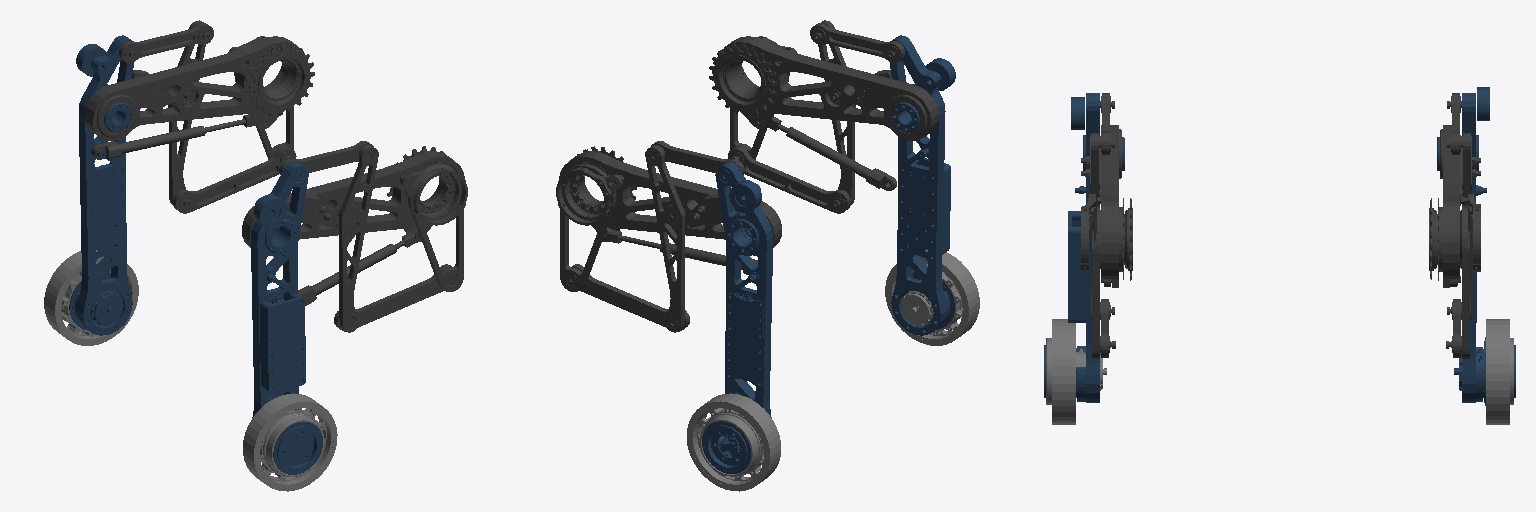
URDF robot description (Ranger-18 urdf):
<?xml version="1.0" encoding="utf-8"?>
<!-- This URDF was automatically created by SolidWorks to URDF Exporter! Originally created by Stephen Brawner (brawner@gmail.com) 
     Commit Version: 1.6.0-4-g7f85cfe  Build Version: 1.6.7995.38578
     For more information, please see http://wiki.ros.org/sw_urdf_exporter -->
<robot
  name="Ranger-18 urdf">
  <link
    name="base_link">
    <inertial>
      <origin
        xyz="-0.11397 0.088903 0.61645"
        rpy="0 0 0" />
      <mass
        value="158.48" />
      <inertia
        ixx="7.3009"
        ixy="1.1884E-05"
        ixz="0.00037067"
        iyy="7.3003"
        iyz="-1.759E-05"
        izz="12.941" />
    </inertial>
    <visual>
      <origin
        xyz="0 0 0"
        rpy="0 0 0" />
      <geometry>
        <mesh
          filename="package://Ranger-18 urdf/meshes/base_link.STL" />
      </geometry>
      <material
        name="">
        <color
          rgba="0.2 0.2 0.2 1" />
      </material>
    </visual>
    <collision>
      <origin
        xyz="0 0 0"
        rpy="0 0 0" />
      <geometry>
        <mesh
          filename="package://Ranger-18 urdf/meshes/base_link.STL" />
      </geometry>
    </collision>
  </link>
  <link
    name="L1">
    <inertial>
      <origin
        xyz="-0.075303 -0.013536 0.01134"
        rpy="0 0 0" />
      <mass
        value="0.8302" />
      <inertia
        ixx="0.00070228"
        ixy="5.6066E-05"
        ixz="6.0407E-07"
        iyy="0.0021875"
        iyz="3.7069E-06"
        izz="0.0028464" />
    </inertial>
    <visual>
      <origin
        xyz="0 0 0"
        rpy="0 0 0" />
      <geometry>
        <mesh
          filename="package://Ranger-18 urdf/meshes/L1.STL" />
      </geometry>
      <material
        name="">
        <color
          rgba="0.3 0.3 0.3 1" />
      </material>
    </visual>
    <collision>
      <origin
        xyz="0 0 0"
        rpy="0 0 0" />
      <geometry>
        <mesh
          filename="package://Ranger-18 urdf/meshes/L1.STL" />
      </geometry>
    </collision>
  </link>
  <joint
    name="J1"
    type="revolute">
    <origin
      xyz="0 -0.169 0.131"
      rpy="1.5708 0 0" />
    <parent
      link="base_link" />
    <child
      link="L1" />
    <axis
      xyz="0 0 1" />
    <limit
      lower="-100"
      upper="100"
      effort="0"
      velocity="0" />
  </joint>
  <link
    name="L2">
    <inertial>
      <origin
        xyz="-0.00061651 -0.12646 0.015807"
        rpy="0 0 0" />
      <mass
        value="0.61657" />
      <inertia
        ixx="0.0034463"
        ixy="-7.1665E-05"
        ixz="-2.1776E-07"
        iyy="0.00019866"
        iyz="-4.9867E-06"
        izz="0.0036129" />
    </inertial>
    <visual>
      <origin
        xyz="0 0 0"
        rpy="0 0 0" />
      <geometry>
        <mesh
          filename="package://Ranger-18 urdf/meshes/L2.STL" />
      </geometry>
      <material
        name="">
        <color
          rgba="0.2 0.3 0.4 1" />
      </material>
    </visual>
    <collision>
      <origin
        xyz="0 0 0"
        rpy="0 0 0" />
      <geometry>
        <mesh
          filename="package://Ranger-18 urdf/meshes/L2.STL" />
      </geometry>
    </collision>
  </link>
  <joint
    name="J2"
    type="revolute">
    <origin
      xyz="-0.21 0 0.0191"
      rpy="0 0 0" />
    <parent
      link="L1" />
    <child
      link="L2" />
    <axis
      xyz="0 0 1" />
    <limit
      lower="-0.0675"
      upper="1.12"
      effort="0"
      velocity="0" />
  </joint>
  <link
    name="L3">
    <inertial>
      <origin
        xyz="2.3397E-05 -6.5063E-06 0.0098494"
        rpy="0 0 0" />
      <mass
        value="0.24097" />
      <inertia
        ixx="0.00021425"
        ixy="-6.3548E-08"
        ixz="-8.0591E-08"
        iyy="0.00021415"
        iyz="3.772E-08"
        izz="0.00040245" />
    </inertial>
    <visual>
      <origin
        xyz="0 0 0"
        rpy="0 0 0" />
      <geometry>
        <mesh
          filename="package://Ranger-18 urdf/meshes/L3.STL" />
      </geometry>
      <material
        name="">
        <color
          rgba="0.5 0.5 0.5 1" />
      </material>
    </visual>
    <collision>
      <origin
        xyz="0 0 0"
        rpy="0 0 0" />
      <geometry>
        <mesh
          filename="package://Ranger-18 urdf/meshes/L3.STL" />
      </geometry>
    </collision>
  </link>
  <joint
    name="J3"
    type="continuous">
    <origin
      xyz="0 -0.25 0.025"
      rpy="0 0 0" />
    <parent
      link="L2" />
    <child
      link="L3" />
    <axis
      xyz="0 0 1" />
    <limit
      lower="0"
      upper="0"
      effort="0"
      velocity="0" />
  </joint>
  <link
    name="L4">
    <inertial>
      <origin
        xyz="-0.075409 0.012316 0.011362"
        rpy="0 0 0" />
      <mass
        value="0.84094" />
      <inertia
        ixx="0.00070891"
        ixy="-6.1867E-05"
        ixz="7.2323E-07"
        iyy="0.002193"
        iyz="-3.4274E-06"
        izz="0.0028585" />
    </inertial>
    <visual>
      <origin
        xyz="0 0 0"
        rpy="0 0 0" />
      <geometry>
        <mesh
          filename="package://Ranger-18 urdf/meshes/L4.STL" />
      </geometry>
      <material
        name="">
        <color
          rgba="0.3 0.3 0.3 1" />
      </material>
    </visual>
    <collision>
      <origin
        xyz="0 0 0"
        rpy="0 0 0" />
      <geometry>
        <mesh
          filename="package://Ranger-18 urdf/meshes/L4.STL" />
      </geometry>
    </collision>
  </link>
  <joint
    name="J4"
    type="revolute">
    <origin
      xyz="0 0.169 0.131"
      rpy="-1.5708 0 0" />
    <parent
      link="base_link" />
    <child
      link="L4" />
    <axis
      xyz="0 0 1" />
    <limit
      lower="-100"
      upper="100"
      effort="0"
      velocity="0" />
  </joint>
  <link
    name="L5">
    <inertial>
      <origin
        xyz="0.0002408 0.12991 0.013521"
        rpy="0 0 0" />
      <mass
        value="0.58407" />
      <inertia
        ixx="0.0033562"
        ixy="7.4293E-05"
        ixz="-1.0917E-07"
        iyy="0.00018162"
        iyz="4.4651E-06"
        izz="0.0035034" />
    </inertial>
    <visual>
      <origin
        xyz="0 0 0"
        rpy="0 0 0" />
      <geometry>
        <mesh
          filename="package://Ranger-18 urdf/meshes/L5.STL" />
      </geometry>
      <material
        name="">
        <color
          rgba="0.2 0.3 0.4 1" />
      </material>
    </visual>
    <collision>
      <origin
        xyz="0 0 0"
        rpy="0 0 0" />
      <geometry>
        <mesh
          filename="package://Ranger-18 urdf/meshes/L5.STL" />
      </geometry>
    </collision>
  </link>
  <joint
    name="J5"
    type="revolute">
    <origin
      xyz="-0.21 0 0.0191"
      rpy="0 0 0" />
    <parent
      link="L4" />
    <child
      link="L5" />
    <axis
      xyz="0 0 1" />
    <limit
      lower="-1.12"
      upper="0.0675"
      effort="0"
      velocity="0" />
  </joint>
  <link
    name="L6">
    <inertial>
      <origin
        xyz="-5.5511E-17 2.7756E-17 0.013226"
        rpy="0 0 0" />
      <mass
        value="0.20018" />
      <inertia
        ixx="0.00020675"
        ixy="1.2048E-20"
        ixz="-1.7574E-19"
        iyy="0.00020675"
        iyz="1.1294E-19"
        izz="0.00039322" />
    </inertial>
    <visual>
      <origin
        xyz="0 0 0"
        rpy="0 0 0" />
      <geometry>
        <mesh
          filename="package://Ranger-18 urdf/meshes/L6.STL" />
      </geometry>
      <material
        name="">
        <color
          rgba="0.5 0.5 0.5 1" />
      </material>
    </visual>
    <collision>
      <origin
        xyz="0 0 0"
        rpy="0 0 0" />
      <geometry>
        <mesh
          filename="package://Ranger-18 urdf/meshes/L6.STL" />
      </geometry>
    </collision>
  </link>
  <joint
    name="J6"
    type="continuous">
    <origin
      xyz="0 0.25 0.025"
      rpy="0 0 0" />
    <parent
      link="L5" />
    <child
      link="L6" />
    <axis
      xyz="0 0 1" />
    <limit
      lower="0"
      upper="0"
      effort="0"
      velocity="0" />
  </joint>
</robot>

--- Render facts (derived) ---
3 views of the same robot in one strip: view 1: azimuth 30°, elevation 25°; view 2: azimuth 150°, elevation 25°; view 3: azimuth 270°, elevation 25° (orthographic).
Robot: Ranger-18 urdf — 7 links, 6 joints (4 revolute, 2 continuous); root link base_link; default pose: every joint at zero.
Visible links, largest first — view 1: L4, L1, L2, L5, L3, L6; view 2: L1, L4, L5, L2, L6, L3; view 3: L1, L4, L2, L5, L3, L6.
Boxes of the visible links, box(x1,y1,x2,y2) form: L4: box(85, 20, 314, 213); L1: box(242, 141, 467, 332); L2: box(251, 161, 322, 474); L5: box(69, 35, 133, 335); L3: box(243, 393, 337, 491); L6: box(44, 250, 138, 345); L1: box(709, 20, 938, 213); L4: box(556, 141, 781, 332); L5: box(702, 161, 772, 473); L2: box(889, 35, 955, 335); L6: box(687, 393, 780, 491); L3: box(885, 249, 979, 345); L1: box(1081, 93, 1132, 358); L4: box(1429, 93, 1480, 358); L2: box(1044, 93, 1124, 402); L5: box(1437, 87, 1515, 405); L3: box(1046, 319, 1106, 424); L6: box(1486, 319, 1513, 424).
Bounding box of the posed robot: 0.3079 × 0.4904 × 0.3861 m (x, y, z).
6 mesh visuals loaded from 7 distinct referenced files (6 binary STL); not drawn: 1 (reference not matched to a file when rendering).
